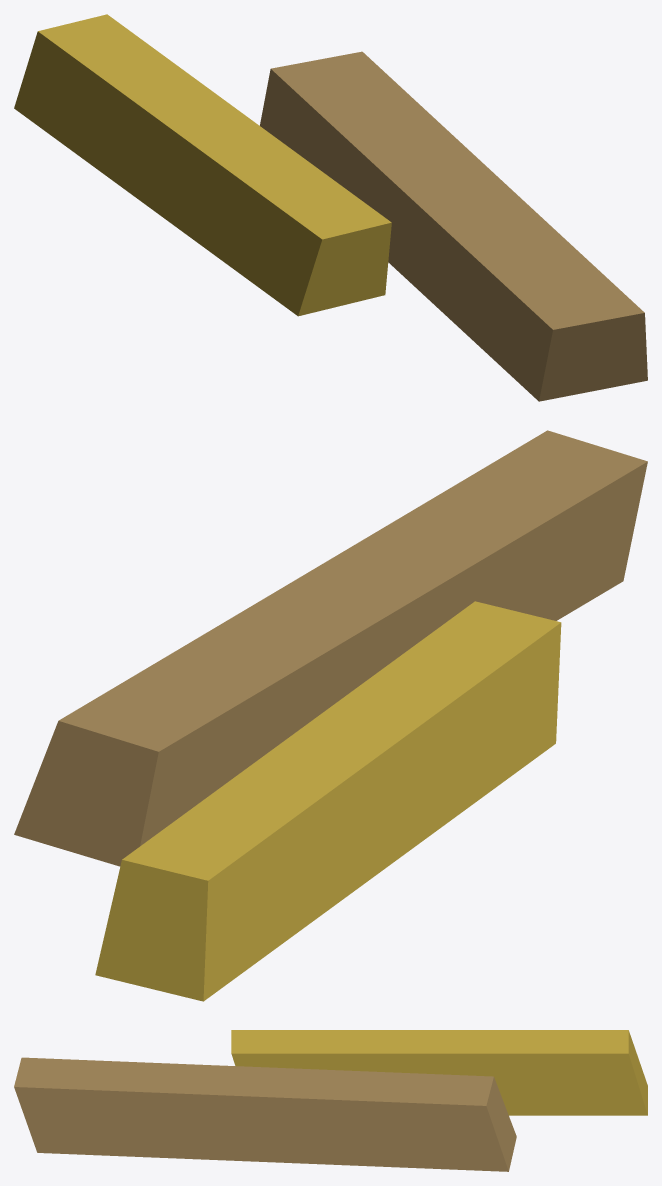
The model's file is M_Food_Fries_002.fbx.
3 renders of one model, top to bottom at view 1: azimuth 30°, elevation 25°; view 2: azimuth 150°, elevation 25°; view 3: azimuth 270°, elevation 25°, orthographic. The views are drawn at different scales.
Parts seen in each view (by area): view 1: Fries30; view 2: Fries30; view 3: Fries30.
Part boxes in pixels (x1=…): Fries30: x1=14, y1=14, x2=647, y2=401; Fries30: x1=14, y1=430, x2=647, y2=1001; Fries30: x1=14, y1=1030, x2=647, y2=1171.
Bounding box in the file's own units: 10.52 × 3.38 × 32.77.
